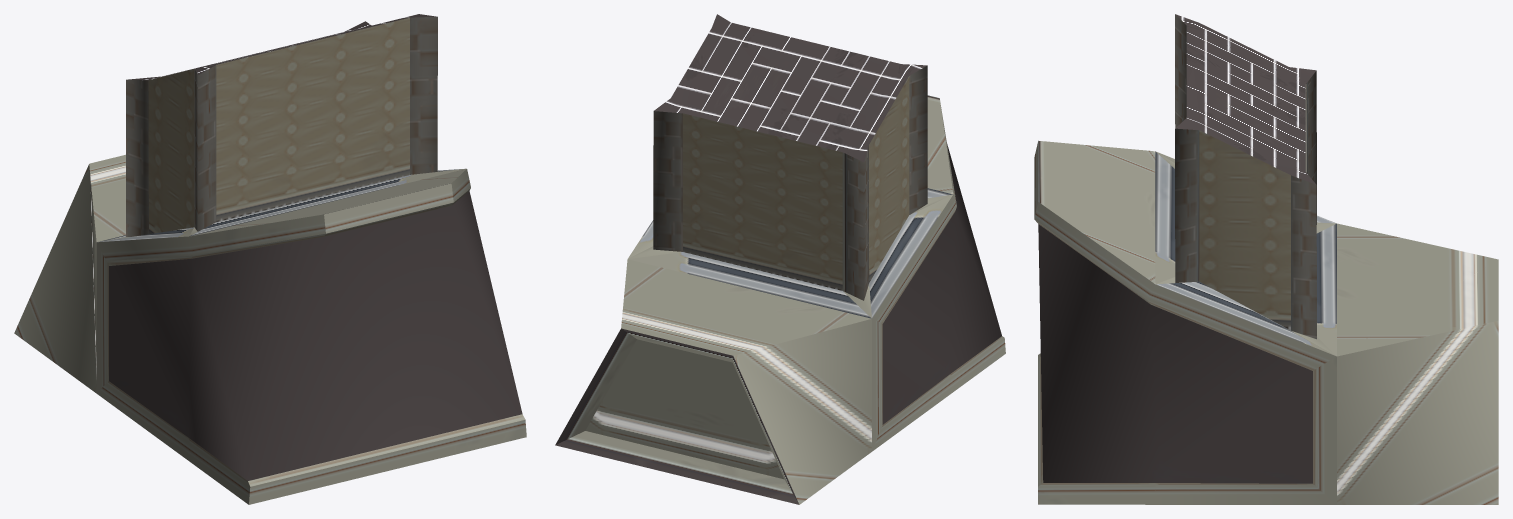
File: KF_SM_XBuilding004.fbx
The picture shows the model from 3 angles, left to right: view 1: azimuth 30°, elevation 25°; view 2: azimuth 150°, elevation 25°; view 3: azimuth 270°, elevation 25°; orthographic projection. The views are drawn at different scales.
Visible parts, largest first — view 1: KF_SM_XBuilding004; view 2: KF_SM_XBuilding004; view 3: KF_SM_XBuilding004.
Boxes of the visible parts, x1=… form: KF_SM_XBuilding004: x1=14, y1=14, x2=526, y2=504; KF_SM_XBuilding004: x1=555, y1=14, x2=1005, y2=504; KF_SM_XBuilding004: x1=1034, y1=14, x2=1498, y2=504.
Size of the model in its own units: 3356 by 4316 by 4950.
